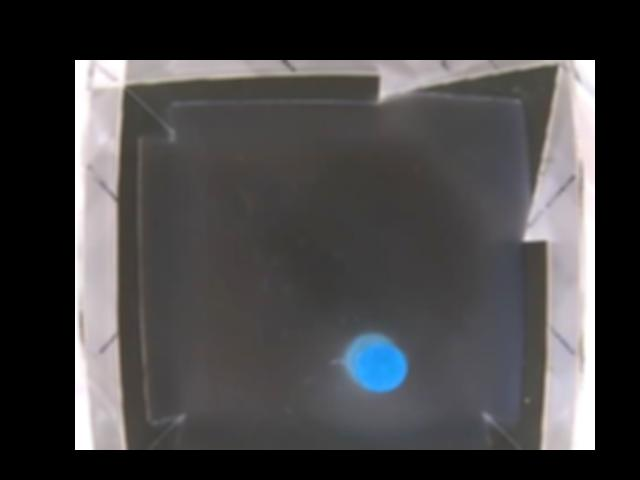Carrot: (346, 332, 405, 393)
